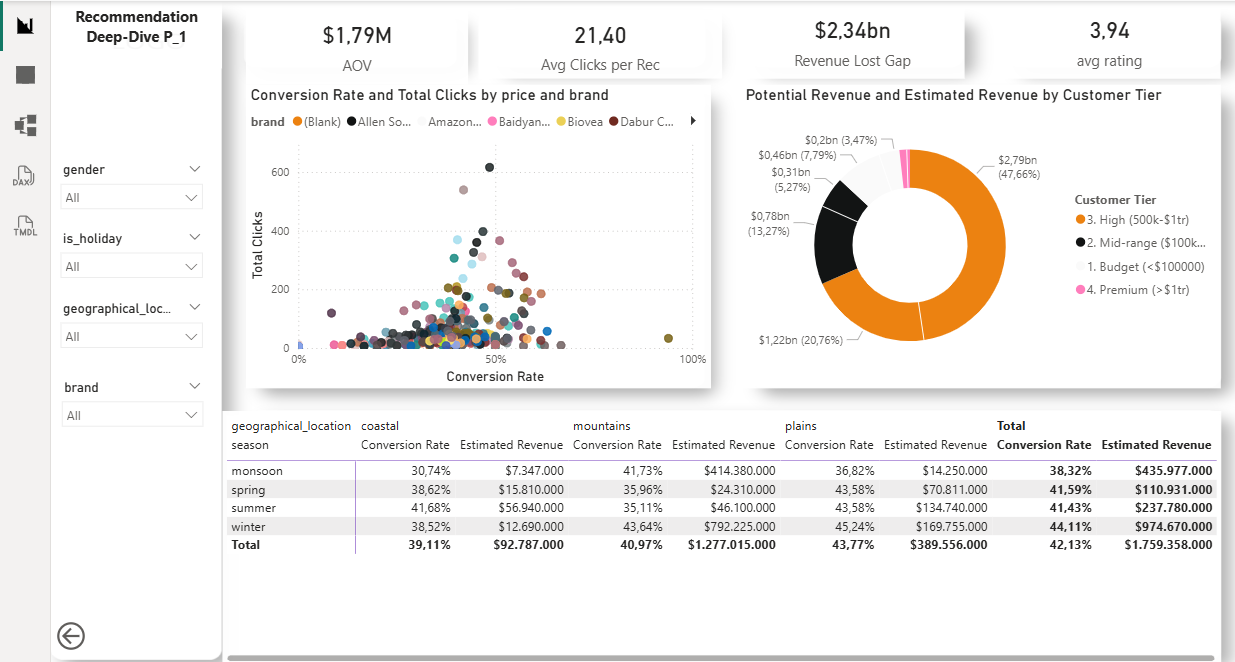

This screenshot's page, from the dashboard's own definition file:
{"tool":"powerbi","page":{"name":"Page 2","canvas":[1280,720],"ordinal":1},"visuals":[{"type":"slicer","fields":{"Values":["dim_customer_profile.gender"]},"box":[0,168.8,174.3,74.1],"z":0},{"type":"slicer","fields":{"Values":["dim_context.is_holiday"]},"box":[0,242.9,174.3,75.5],"z":1000},{"type":"slicer","fields":{"Values":["dim_context.geographical_location"]},"box":[0,318.4,174.3,67.2],"z":2000},{"type":"slicer","fields":{"Values":["dim_product_1.brand"]},"box":[1.4,403.4,172.9,79.6],"z":3000},{"type":"card","fields":{"Values":["Nhóm Measure Sản phẩm & Khách hàng.Avg Clicks per Rec"]},"box":[462.4,9.6,263.5,74.1],"z":4000},{"type":"card","fields":{"Values":["Nhóm Measure Sản phẩm & Khách hàng.Revenue Lost Gap"]},"box":[745.1,0,241.5,83.7],"z":5000},{"type":"card","fields":{"Values":["Nhóm Measure Sản phẩm & Khách hàng.AOV"]},"box":[210.7,4.1,240.4,86.4],"z":6000},{"type":"card","fields":{"Values":["Nhóm Measure Sản phẩm & Khách hàng.avg rating"]},"box":[1023.7,0,240.4,83.7],"z":7000},{"type":"pivotTable","fields":{"Rows":["dim_context.season"],"Columns":["dim_context.geographical_location"],"Values":["Nhóm Measure Tỷ lệ & Hiệu quả.Conversion Rate","Nhóm Measure Tỷ lệ & Hiệu quả.Estimated Revenue"]},"box":[185,443,1079,276.9],"z":8000},{"type":"scatterChart","fields":{"Category":["dim_product_1.price"],"X":["Nhóm Measure Tỷ lệ & Hiệu quả.Conversion Rate"],"Y":["Nhóm Measure Tổng quan.Total Clicks"],"Series":["dim_product_1.brand"]},"box":[210.7,90.5,502.4,328.2],"z":9000},{"type":"donutChart","fields":{"Y":["Nhóm Measure Tỷ lệ & Hiệu quả.Potential Revenue","Nhóm Measure Tỷ lệ & Hiệu quả.Estimated Revenue"],"Category":["dim_customer_profile.Customer Tier"]},"box":[745.5,90.5,518.6,328.2],"z":10000},{"type":"textbox","box":[0,0,185,72.9],"z":11000},{"type":"actionButton","box":[1.4,665.8,99.9,40.5],"z":12000}]}

Visuals, with their boxes on the page's 1280x720 design canvas (x1, y1, x2, y2). These are canvas units, not pixel positions in the 1235x662 screenshot, which may show the page scaled, cropped or inside an application window:
slicer - dim_customer_profile.gender: pyautogui.locateOnScreen(0, 169, 174, 243)
slicer - dim_context.is_holiday: pyautogui.locateOnScreen(0, 243, 174, 318)
slicer - dim_context.geographical_location: pyautogui.locateOnScreen(0, 318, 174, 386)
slicer - dim_product_1.brand: pyautogui.locateOnScreen(1, 403, 174, 483)
card - Nhóm Measure Sản phẩm & Khách hàng.Avg Clicks per Rec: pyautogui.locateOnScreen(462, 10, 726, 84)
card - Nhóm Measure Sản phẩm & Khách hàng.Revenue Lost Gap: pyautogui.locateOnScreen(745, 0, 987, 84)
card - Nhóm Measure Sản phẩm & Khách hàng.AOV: pyautogui.locateOnScreen(211, 4, 451, 90)
card - Nhóm Measure Sản phẩm & Khách hàng.avg rating: pyautogui.locateOnScreen(1024, 0, 1264, 84)
pivotTable - dim_context.season x dim_context.geographical_location: pyautogui.locateOnScreen(185, 443, 1264, 720)
scatterChart - dim_product_1.price x Nhóm Measure Tỷ lệ & Hiệu quả.Conversion Rate: pyautogui.locateOnScreen(211, 90, 713, 419)
donutChart - Nhóm Measure Tỷ lệ & Hiệu quả.Potential Revenue x Nhóm Measure Tỷ lệ & Hiệu quả.Estimated Revenue: pyautogui.locateOnScreen(746, 90, 1264, 419)
textbox: pyautogui.locateOnScreen(0, 0, 185, 73)
actionButton: pyautogui.locateOnScreen(1, 666, 101, 706)
